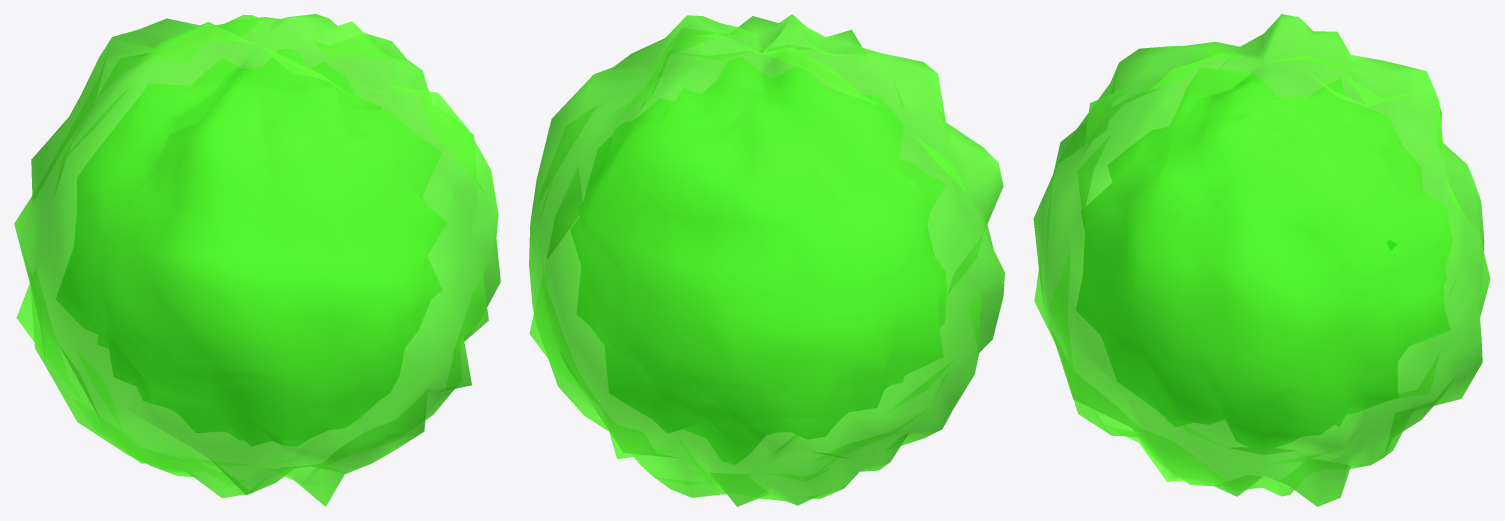
Rendered from Food.fbx.
The picture shows the model from 3 angles, left to right: view 1: azimuth 30°, elevation 25°; view 2: azimuth 150°, elevation 25°; view 3: azimuth 270°, elevation 25°; orthographic projection. The views are drawn at different scales.
Parts seen in each view (by area): view 1: Sphere.001; view 2: Sphere.001; view 3: Sphere.001.
Part boxes in pixels (box(x1,y1,x2,y2)): Sphere.001: box(14, 14, 500, 506); Sphere.001: box(529, 14, 1004, 506); Sphere.001: box(1033, 14, 1490, 506).
Bounding box in the file's own units: 207 × 213 × 202.
